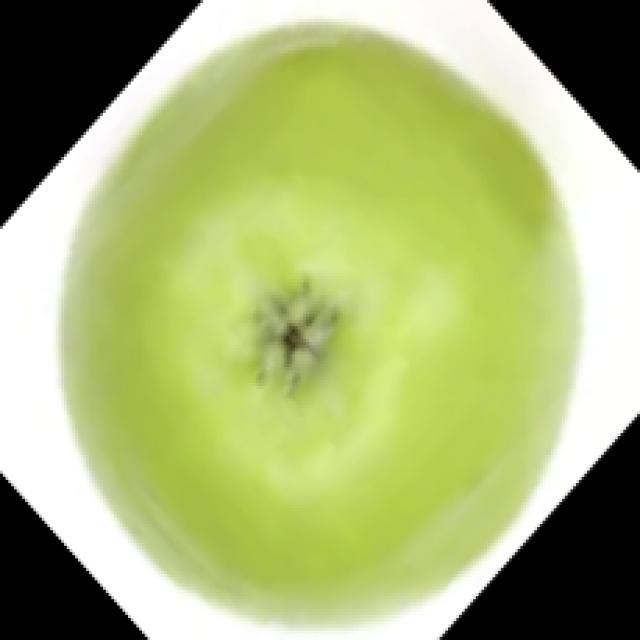Fresh Apple: (49, 21, 580, 634)
